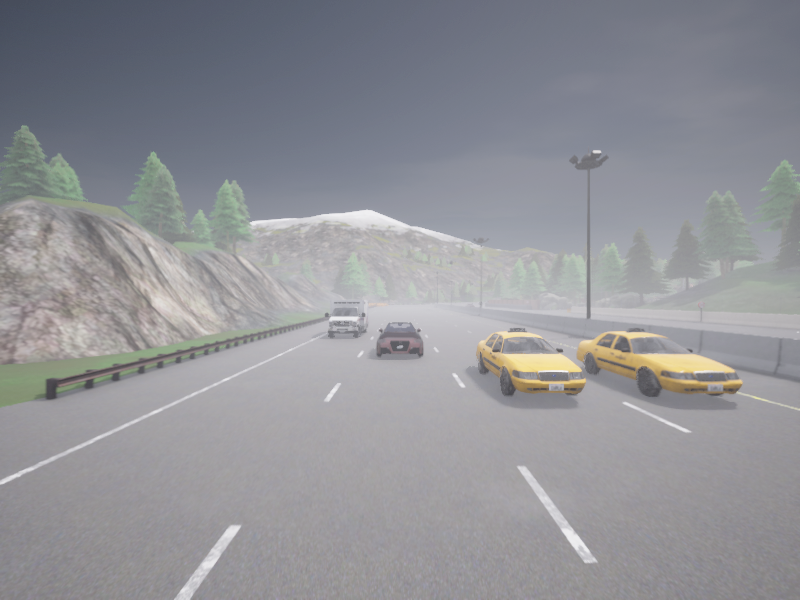vehicle: (576, 328, 742, 396), (476, 328, 585, 395), (376, 322, 423, 356), (325, 300, 368, 337), (465, 304, 473, 306), (478, 302, 483, 304)
